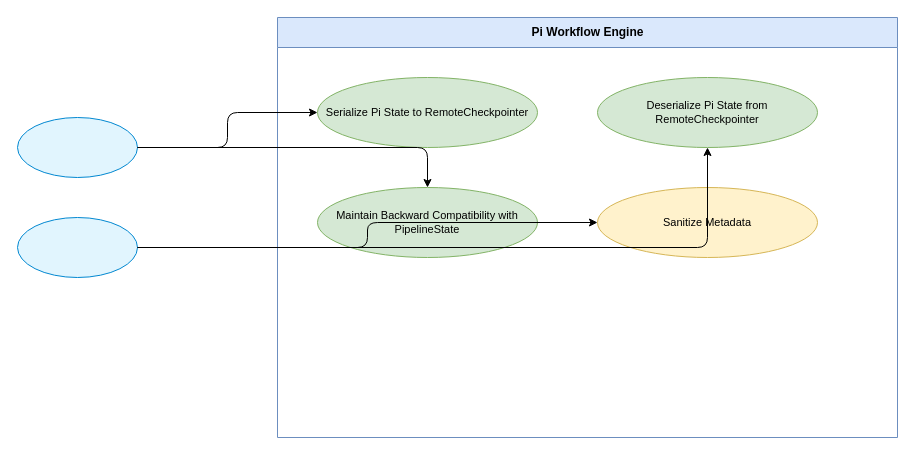
The diagram is 915 pixels wide and 455 high, and some of its shapes have lost their labels. The shapes that lost their labels are listed below. From the top down, each one's centre as x and y in pixels, then its label:
(x=77, y=147): Developer
(x=77, y=247): System Architect
